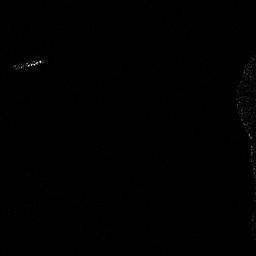ship: (14, 58, 44, 69)
